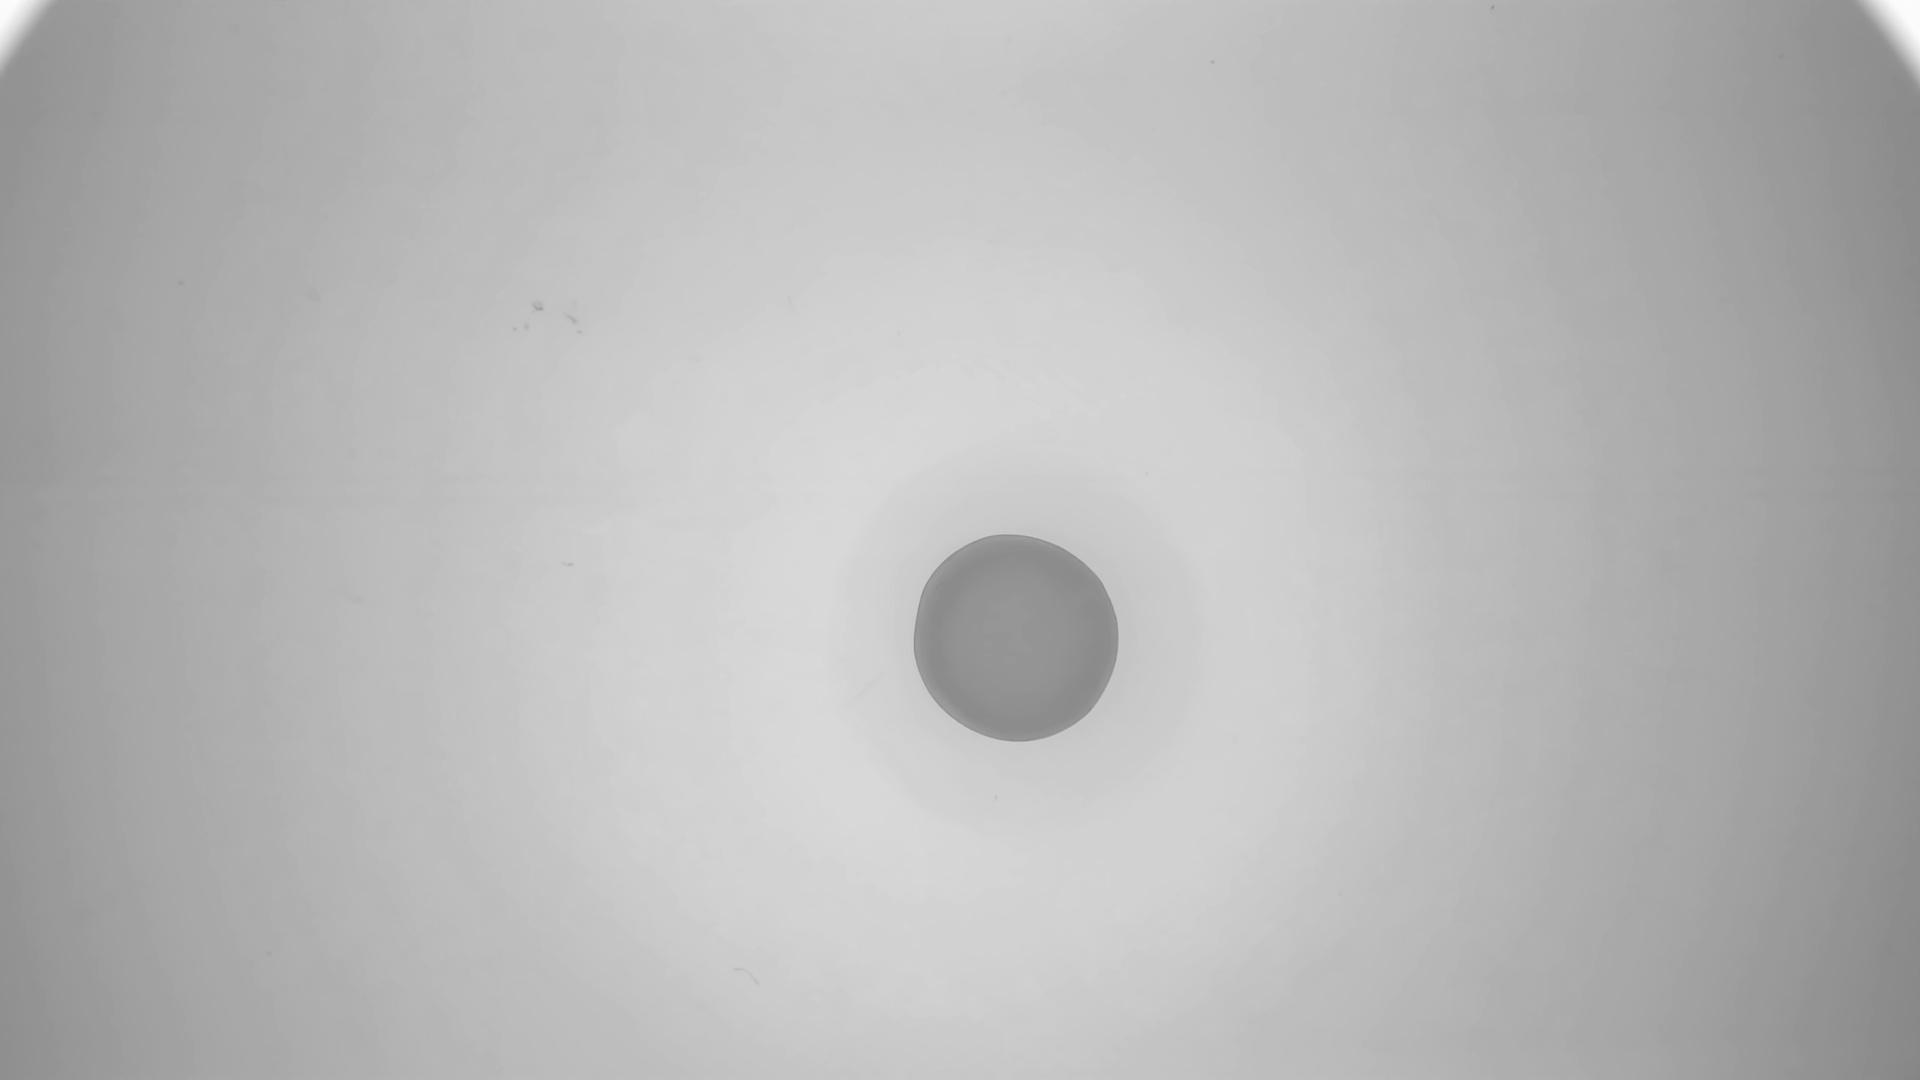normal: (916, 531, 1120, 746)
